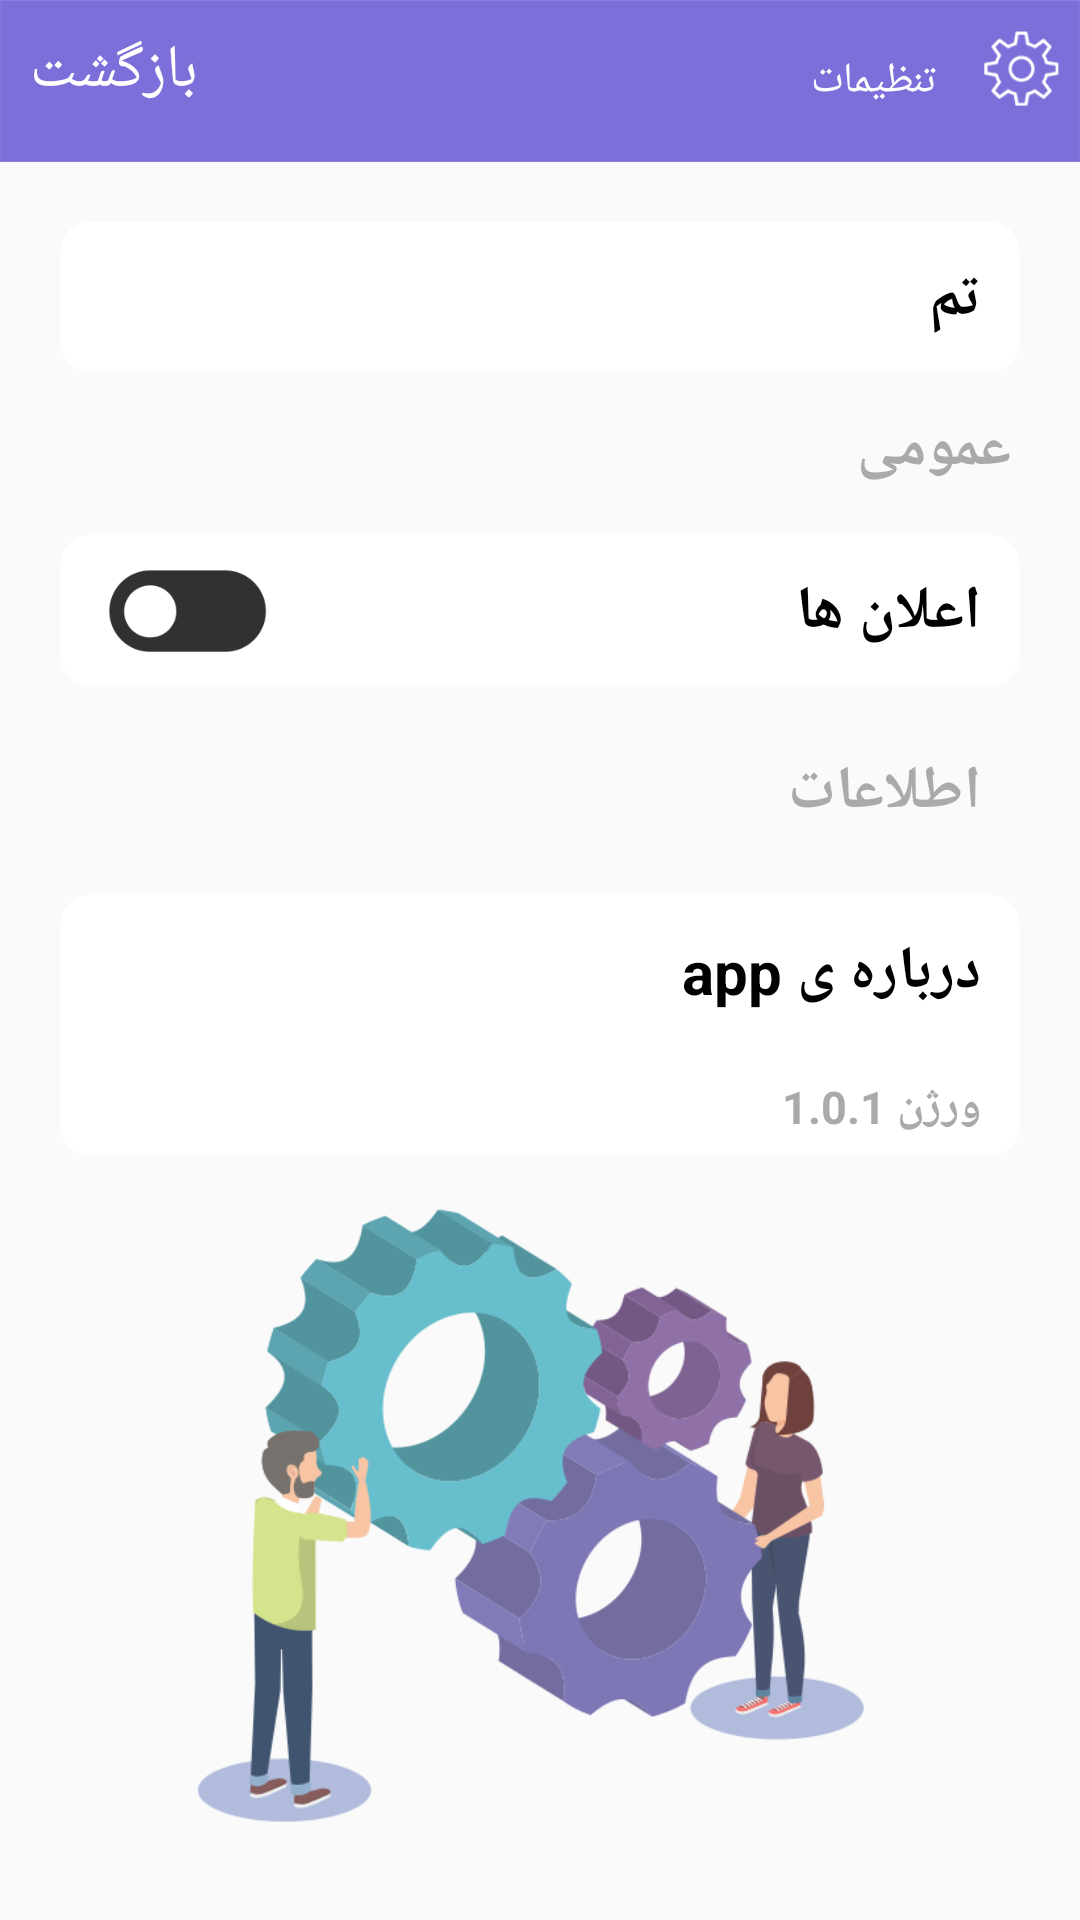

Point at icon controls on the screen. Image size 1080x1920, points as [x,y].
setting: [1021,68]
toggle notif: [188,611]
